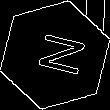N_W: (25, 29, 85, 81)
